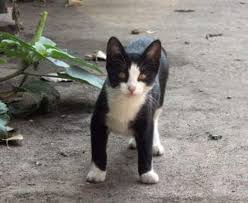cat: (79, 28, 173, 192)
